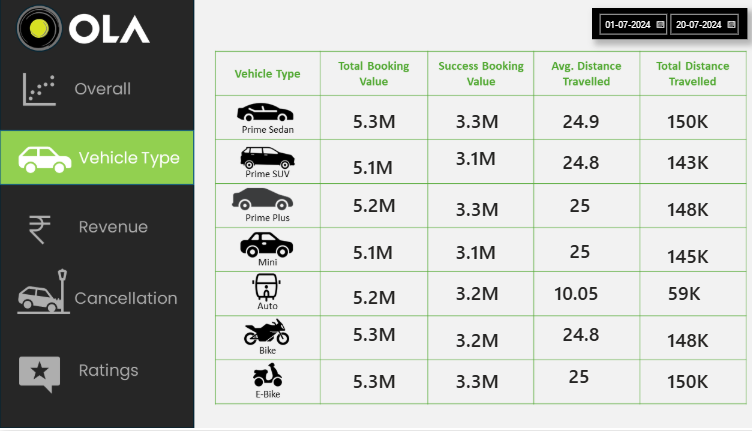

The page's visual inventory and layout, read from the dashboard file:
{"tool":"powerbi","page":{"name":"Vechile Type","canvas":[1280,720],"ordinal":1},"visuals":[{"type":"actionButton","box":[0,348.5,324,90.7],"z":0},{"type":"actionButton","box":[0,450.7,324,90.7],"z":1000},{"type":"actionButton","box":[0,583.2,324,90.7],"z":2000},{"type":"actionButton","box":[0,110.9,324,90.7],"z":3000},{"type":"cardVisual","fields":{"Data":["Sum(July.Booking_Value)"]},"box":[558.7,162.5,135.4,77.9],"z":4000},{"type":"cardVisual","fields":{"Data":["Sum(July.Booking_Value)"]},"box":[558.7,240.4,135.4,77.9],"z":5000},{"type":"cardVisual","fields":{"Data":["Sum(July.Booking_Value)"]},"box":[558.7,303.1,135.4,77.9],"z":6000},{"type":"cardVisual","fields":{"Data":["Sum(July.Booking_Value)"]},"box":[558.7,381,135.4,77.9],"z":7000},{"type":"cardVisual","fields":{"Data":["Sum(July.Booking_Value)"]},"box":[558.7,457.1,135.4,77.9],"z":8000},{"type":"cardVisual","fields":{"Data":["Sum(July.Booking_Value)"]},"box":[558.7,518.1,135.4,77.9],"z":9000},{"type":"cardVisual","fields":{"Data":["Sum(July.Booking_Value)"]},"box":[558.7,596,135.4,77.9],"z":10000},{"type":"cardVisual","fields":{"Data":["Sum(July.Booking_Value)"]},"box":[729.7,162.5,135.4,77.9],"z":11000},{"type":"cardVisual","fields":{"Data":["Sum(July.Booking_Value)"]},"box":[729.7,225.2,135.4,77.9],"z":12000},{"type":"cardVisual","fields":{"Data":["Sum(July.Booking_Value)"]},"box":[729.7,309.8,135.4,77.9],"z":13000},{"type":"cardVisual","fields":{"Data":["Sum(July.Booking_Value)"]},"box":[729.7,381,135.4,77.9],"z":14000},{"type":"cardVisual","fields":{"Data":["Sum(July.Booking_Value)"]},"box":[729.7,450.4,135.4,77.9],"z":15000},{"type":"cardVisual","fields":{"Data":["Sum(July.Booking_Value)"]},"box":[729.7,528.3,135.4,77.9],"z":16000},{"type":"cardVisual","fields":{"Data":["Sum(July.Booking_Value)"]},"box":[729.7,596,135.4,77.9],"z":17000},{"type":"cardVisual","fields":{"Data":["Avg(July.Ride_Distance)"]},"box":[907.5,162.5,135.4,77.9],"z":18000},{"type":"cardVisual","fields":{"Data":["Avg(July.Ride_Distance)"]},"box":[907.5,232,135.4,77.9],"z":19000},{"type":"cardVisual","fields":{"Data":["Avg(July.Ride_Distance)"]},"box":[919.4,303.1,135.4,77.9],"z":20000},{"type":"cardVisual","fields":{"Data":["Avg(July.Ride_Distance)"]},"box":[919.4,379.3,135.4,77.9],"z":21000},{"type":"cardVisual","fields":{"Data":["Avg(July.Ride_Distance)"]},"box":[895.7,450.4,135.4,77.9],"z":22000},{"type":"cardVisual","fields":{"Data":["Avg(July.Ride_Distance)"]},"box":[907.5,518.1,135.4,77.9],"z":23000},{"type":"cardVisual","fields":{"Data":["Avg(July.Ride_Distance)"]},"box":[919.1,588.9,136.2,78.3],"z":24000},{"type":"cardVisual","fields":{"Data":["Sum(July.Ride_Distance)"]},"box":[1083.6,162.5,135.4,77.9],"z":25000},{"type":"cardVisual","fields":{"Data":["Sum(July.Ride_Distance)"]},"box":[1083.6,232,135.4,77.9],"z":26000},{"type":"cardVisual","fields":{"Data":["Sum(July.Ride_Distance)"]},"box":[1083.6,309.8,135.4,77.9],"z":27000},{"type":"cardVisual","fields":{"Data":["Sum(July.Ride_Distance)"]},"box":[1083.6,387.7,135.4,77.9],"z":28000},{"type":"cardVisual","fields":{"Data":["Sum(July.Ride_Distance)"]},"box":[1083.6,450.4,135.4,77.9],"z":29000},{"type":"cardVisual","fields":{"Data":["Sum(July.Ride_Distance)"]},"box":[1083.6,596,135.4,77.9],"z":30000},{"type":"cardVisual","fields":{"Data":["Sum(July.Ride_Distance)"]},"box":[1083.6,528.3,135.4,77.9],"z":31000},{"type":"slicer","title":"Date","fields":{"Values":["July.Date"]},"box":[987.1,16.9,259,52.5],"z":32000}]}

Visuals, with their boxes on the page's 1280x720 design canvas (x1, y1, x2, y2). These are canvas units, not pixel positions in the 752x431 screenshot, which may show the page scaled, cropped or inside an application window:
actionButton: bbox=[0, 348, 324, 439]
actionButton: bbox=[0, 451, 324, 541]
actionButton: bbox=[0, 583, 324, 674]
actionButton: bbox=[0, 111, 324, 202]
cardVisual - Sum(July.Booking_Value): bbox=[559, 162, 694, 240]
cardVisual - Sum(July.Booking_Value): bbox=[559, 240, 694, 318]
cardVisual - Sum(July.Booking_Value): bbox=[559, 303, 694, 381]
cardVisual - Sum(July.Booking_Value): bbox=[559, 381, 694, 459]
cardVisual - Sum(July.Booking_Value): bbox=[559, 457, 694, 535]
cardVisual - Sum(July.Booking_Value): bbox=[559, 518, 694, 596]
cardVisual - Sum(July.Booking_Value): bbox=[559, 596, 694, 674]
cardVisual - Sum(July.Booking_Value): bbox=[730, 162, 865, 240]
cardVisual - Sum(July.Booking_Value): bbox=[730, 225, 865, 303]
cardVisual - Sum(July.Booking_Value): bbox=[730, 310, 865, 388]
cardVisual - Sum(July.Booking_Value): bbox=[730, 381, 865, 459]
cardVisual - Sum(July.Booking_Value): bbox=[730, 450, 865, 528]
cardVisual - Sum(July.Booking_Value): bbox=[730, 528, 865, 606]
cardVisual - Sum(July.Booking_Value): bbox=[730, 596, 865, 674]
cardVisual - Avg(July.Ride_Distance): bbox=[908, 162, 1043, 240]
cardVisual - Avg(July.Ride_Distance): bbox=[908, 232, 1043, 310]
cardVisual - Avg(July.Ride_Distance): bbox=[919, 303, 1055, 381]
cardVisual - Avg(July.Ride_Distance): bbox=[919, 379, 1055, 457]
cardVisual - Avg(July.Ride_Distance): bbox=[896, 450, 1031, 528]
cardVisual - Avg(July.Ride_Distance): bbox=[908, 518, 1043, 596]
cardVisual - Avg(July.Ride_Distance): bbox=[919, 589, 1055, 667]
cardVisual - Sum(July.Ride_Distance): bbox=[1084, 162, 1219, 240]
cardVisual - Sum(July.Ride_Distance): bbox=[1084, 232, 1219, 310]
cardVisual - Sum(July.Ride_Distance): bbox=[1084, 310, 1219, 388]
cardVisual - Sum(July.Ride_Distance): bbox=[1084, 388, 1219, 466]
cardVisual - Sum(July.Ride_Distance): bbox=[1084, 450, 1219, 528]
cardVisual - Sum(July.Ride_Distance): bbox=[1084, 596, 1219, 674]
cardVisual - Sum(July.Ride_Distance): bbox=[1084, 528, 1219, 606]
"Date" slicer: bbox=[987, 17, 1246, 69]
